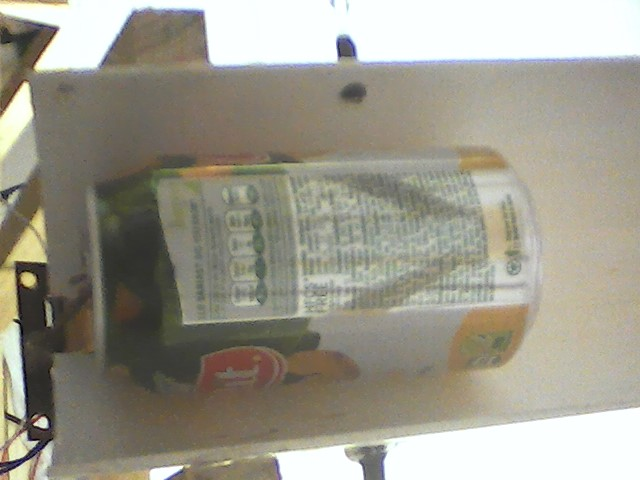lata: (80, 140, 551, 396)
